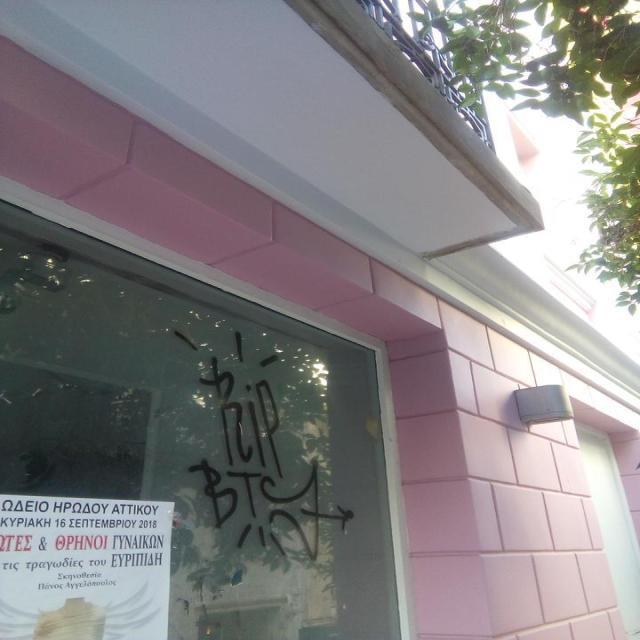nonspitting: (178, 330, 358, 560)
